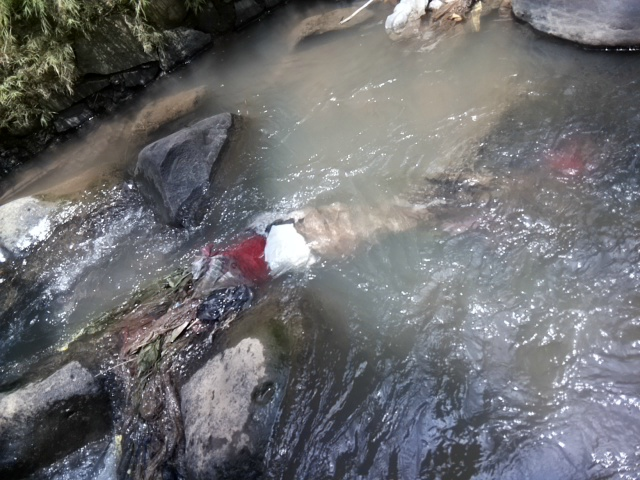Sampah_Plastik: (105, 212, 304, 409)
